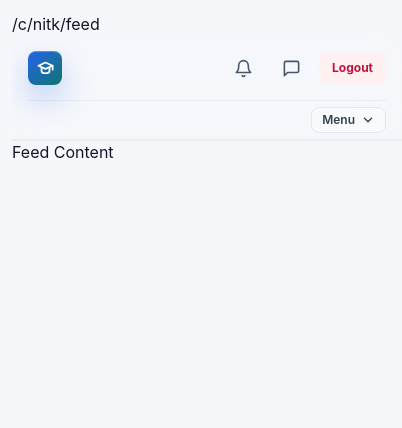
Test case: College-Scoped Navigation & Integration Regression Suite › Test G: mobile navigation menu expands, shows active state, and navigates on link click
// Click to open menu
What coordinates should you click on to do the following:
click the button with aria-label "Open navigation menu"
I would click on:
 (349, 120)
Its box is left=311, top=107, right=386, bottom=133.
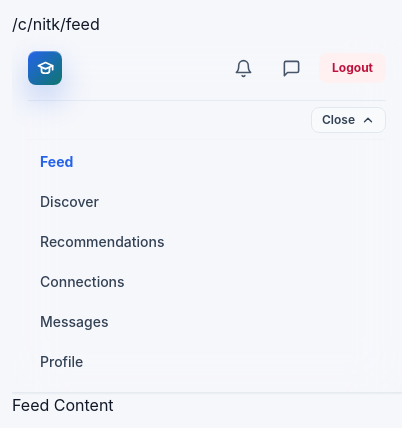
Result: the element with test id "mobile-nav-dropdown" is shown at left=28, top=139, right=386, bottom=392
Result: the button named "Open navigation menu" is expanded at left=311, top=107, right=386, bottom=133
Result: the element with test id "mobile-nav-dropdown" shows "Feed" at left=28, top=144, right=386, bottom=180
What coordinates should you click on to do the following:
click the link to "/c/nitk/discover"
I would click on:
 (69, 202)
Its box is left=40, top=193, right=99, bottom=210.
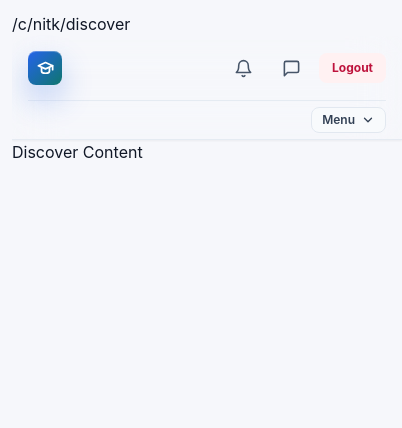
Result: the text with test id "location-display" reads "/c/nitk/discover" at left=12, top=14, right=130, bottom=34
Result: the element with test id "mobile-nav-dropdown" is gone
